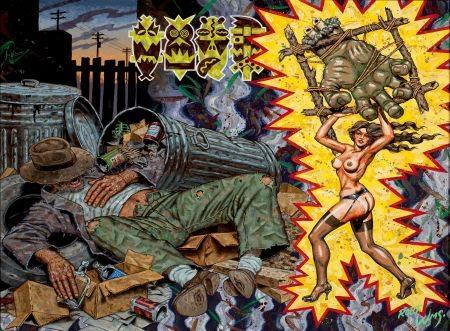person: (5, 143, 288, 315), (308, 106, 420, 302)
